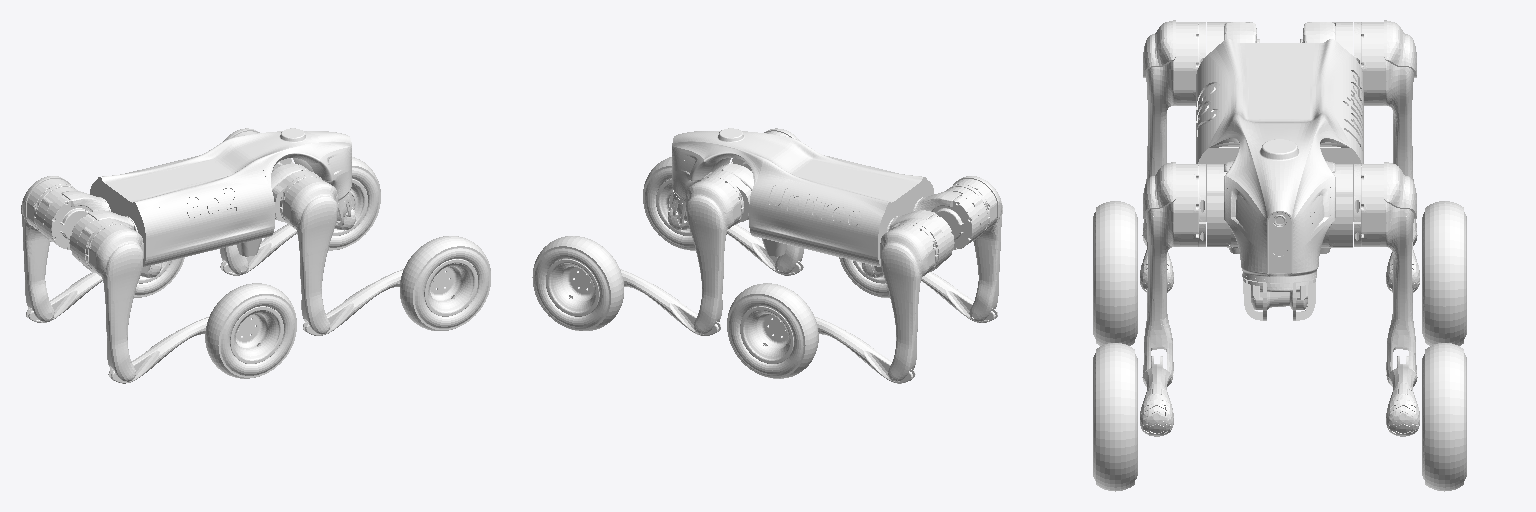
--- What the picture shows (computed from the rendered views, not written in the file) ---
Views: 3 orthographic renders of the robot side by side, from view 1: azimuth 30°, elevation 25°; view 2: azimuth 150°, elevation 25°; view 3: azimuth 270°, elevation 25°.
Robot: go2w_description — 33 links, 32 joints (12 revolute, 4 continuous, 16 fixed); root link base; default pose: all joints at 0 but 4 set to mid-range because 0 is outside their limits (FL_calf_joint = -1.78, FR_calf_joint = -1.78, RL_calf_joint = -1.78, RR_calf_joint = -1.78).
Links seen in each view (by area): view 1: base, RR_foot, FR_foot, FR_thigh, RR_thigh, RL_thigh, RL_hip, FL_foot, RR_calf, FR_calf, RR_hip, RL_calf (+4 smaller); view 2: base, RL_foot, FL_foot, RL_thigh, FL_thigh, RR_thigh, RR_hip, FR_foot, FL_calf, RL_calf, RL_hip, RR_calf (+4 smaller); view 3: base, FL_thigh, FR_thigh, FL_foot, FR_foot, RR_foot, RL_foot, RL_thigh, RR_thigh, FL_calf, FR_calf, FL_hip (+3 smaller).
Boxes of the visible links, x1,y1,x2,y2 form: base: (90,128,352,272); RR_foot: (205,283,296,378); FR_foot: (400,236,490,330); FR_thigh: (280,175,337,334); RR_thigh: (85,222,143,381); RL_thigh: (21,176,76,322); RL_hip: (36,187,110,249); FL_foot: (297,157,380,250); RR_calf: (108,316,238,383); FR_calf: (303,269,432,335); RR_hip: (69,210,137,271); RL_calf: (26,263,161,322); base: (671,128,933,271); RL_foot: (727,283,818,378); FL_foot: (532,236,623,330); RL_thigh: (880,222,938,381); FL_thigh: (686,175,743,334); RR_thigh: (947,176,1002,322); RR_hip: (913,187,987,249); FR_foot: (643,157,726,250); FL_calf: (591,269,720,335); RL_calf: (785,316,915,383); RL_hip: (886,210,954,271); RR_calf: (862,263,997,322); base: (1196,39,1363,320); FL_thigh: (1354,162,1416,384); FR_thigh: (1143,162,1205,384); FL_foot: (1422,343,1466,491); FR_foot: (1093,343,1137,491); RR_foot: (1093,201,1137,345); RL_foot: (1422,201,1466,345); RL_thigh: (1354,20,1416,231); RR_thigh: (1143,20,1205,231); FL_calf: (1386,356,1419,436); FR_calf: (1140,356,1173,436); FL_hip: (1321,161,1352,247).
Bounding box of the posed robot: 0.7427 × 0.432 × 0.3406 m (x, y, z).
Meshes: 8 distinct files referenced, 17 mesh visuals loaded (8 binary STL).

The robot description file, URDF, robot "go2w_description":
<?xml version="1.0" encoding="utf-8"?>
<!-- This URDF was automatically created by SolidWorks to URDF Exporter! Originally created by
Stephen Brawner ([email redacted]) 
     Commit Version: 1.6.0-4-g7f85cfe  Build Version: 1.6.7995.38578
     For more information, please see http://wiki.ros.org/sw_urdf_exporter -->
<robot
  name="go2w_description">
  <link
    name="base">
    <inertial>
      <origin
        xyz="0.021112 0 -0.005366"
        rpy="0 0 0" />
      <mass
        value="6.921" />
      <inertia
        ixx="0.02448"
        ixy="0.00012166"
        ixz="0.0014849"
        iyy="0.098077"
        iyz="-3.12E-05"
        izz="0.107" />
    </inertial>
    <visual>
      <origin
        xyz="0 0 0"
        rpy="0 0 0" />
      <geometry>
        <mesh
          filename="package://go2/meshes/visual/base.STL" />
      </geometry>
      <material
        name="">
        <color
          rgba="1 1 1 1" />
      </material>
    </visual>
    <collision>
      <origin rpy="0 0 0" xyz="0 0 0" />
      <geometry>
        <box size="0.3762 0.0935 0.114" />
      </geometry>
    </collision>
  </link>
  <link
    name="Head_upper">
    <inertial>
      <origin
        xyz="0 0 0"
        rpy="0 0 0" />
      <mass
        value="0.001" />
      <inertia
        ixx="9.6e-06"
        ixy="0"
        ixz="0"
        iyy="9.6e-06"
        iyz="0"
        izz="9.6e-06" />
    </inertial>
    <collision>
      <origin
        xyz="0 0 0"
        rpy="0 0 0" />
      <geometry>
        <cylinder radius="0.06" length="0.09" />
      </geometry>
    </collision>
  </link>
  <joint
    name="Head_upper_joint"
    type="fixed" dont_collapse="true">
    <origin
      xyz="0.285 0 0.01"
      rpy="0 0 0" />
    <parent
      link="base" />
    <child
      link="Head_upper" />
    <axis
      xyz="0 0 0" />
  </joint>
  <link
    name="Head_lower">
    <inertial>
      <origin
        xyz="0 0 0"
        rpy="0 0 0" />
      <mass
        value="0.001" />
      <inertia
        ixx="9.6e-06"
        ixy="0"
        ixz="0"
        iyy="9.6e-06"
        iyz="0"
        izz="9.6e-06" />
    </inertial>
    <collision>
      <origin
        xyz="0 0 0"
        rpy="0 0 0" />
      <geometry>
        <sphere radius="0.06" />
      </geometry>
    </collision>
  </link>
  <joint
    name="Head_lower_joint"
    type="fixed" dont_collapse="true">
    <origin
      xyz="0.008 0 -0.07"
      rpy="0 0 0" />
    <parent
      link="Head_upper" />
    <child
      link="Head_lower" />
    <axis
      xyz="0 0 0" />
  </joint>
  <link
    name="FL_hip">
    <inertial>
      <origin
        xyz="-0.0054 0.00194 -0.000105"
        rpy="0 0 0" />
      <mass
        value="0.678" />
      <inertia
        ixx="0.00048"
        ixy="-3.01E-06"
        ixz="1.11E-06"
        iyy="0.000884"
        iyz="-1.42E-06"
        izz="0.000596" />
    </inertial>
    <visual>
      <origin
        xyz="0 0 0"
        rpy="0 0 0" />
      <geometry>
        <mesh
          filename="package://go2/meshes/visual/hip.STL" />
      </geometry>
      <material
        name="">
        <color
          rgba="1 1 1 1" />
      </material>
    </visual>
    <collision>
      <origin rpy="1.5707963267948966 0 0" xyz="0 0.08 0" />
      <geometry>
        <cylinder length="0.04" radius="0.046" />
      </geometry>
    </collision>
  </link>
  <joint
    name="FL_hip_joint"
    type="revolute">
    <origin
      xyz="0.1934 0.0465 0"
      rpy="0 0 0" />
    <parent
      link="base" />
    <child
      link="FL_hip" />
    <axis
      xyz="1 0 0" />
    <limit
      lower="-1.0472"
      upper="1.0472"
      effort="23.7"
      velocity="30.1" />
  </joint>
  <link
    name="FL_thigh">
    <inertial>
      <origin
        xyz="-0.00374 -0.0223 -0.0327"
        rpy="0 0 0" />
      <mass
        value="1.152" />
      <inertia
        ixx="0.00584"
        ixy="8.72E-05"
        ixz="-0.000289"
        iyy="0.0058"
        iyz="0.000808"
        izz="0.00103" />
    </inertial>
    <visual>
      <origin
        xyz="0 0 0"
        rpy="0 0 0" />
      <geometry>
        <mesh
          filename="package://go2/meshes/visual/thigh.STL" />
      </geometry>
      <material
        name="">
        <color
          rgba="1 1 1 1" />
      </material>
    </visual>
    <collision>
      <origin rpy="0 1.5707963267948966 0" xyz="0 0 -0.1065" />
      <geometry>
        <box size="0.11 0.0245 0.034" />
      </geometry>
    </collision>
  </link>
  <joint
    name="FL_thigh_joint"
    type="revolute">
    <origin
      xyz="0 0.0955 0"
      rpy="0 0 0" />
    <parent
      link="FL_hip" />
    <child
      link="FL_thigh" />
    <axis
      xyz="0 1 0" />
    <limit
      lower="-1.5707963267948966"
      upper="3.4907"
      effort="23.7"
      velocity="30.1" />
  </joint>
  <link
    name="FL_calf">
    <inertial>
      <origin
        xyz="0.00548 -0.000975 -0.115"
        rpy="0 0 0" />
      <mass
        value="0.154" />
      <inertia
        ixx="0.00108"
        ixy="3.4E-07"
        ixz="1.72E-05"
        iyy="0.0011"
        iyz="8.28E-06"
        izz="3.29E-05" />
    </inertial>
    <visual>
      <origin
        xyz="0 0 0"
        rpy="0 0 0" />
      <geometry>
        <mesh
          filename="package://go2/meshes/visual/calf.STL" />
      </geometry>
      <material
        name="">
        <color
          rgba="1 1 1 1" />
      </material>
    </visual>
    <collision>
      <origin rpy="0 -0.21 0" xyz="0.008 0 -0.06" />
      <geometry>
        <cylinder length="0.12" radius="0.012" />
      </geometry>
    </collision>
  </link>
  <joint
    name="FL_calf_joint"
    type="revolute">
    <origin
      xyz="0 0 -0.213"
      rpy="0 0 0" />
    <parent
      link="FL_thigh" />
    <child
      link="FL_calf" />
    <axis
      xyz="0 1 0" />
    <limit
      lower="-2.7227"
      upper="-0.83776"
      effort="35.55"
      velocity="20.07" />
  </joint>
  <link
    name="FL_calflower">
    <collision>
      <origin rpy="0 0 0" xyz="0 0 0" />
      <geometry>
        <cylinder length="0.065" radius="0.011" />
      </geometry>
    </collision>
  </link>
  <joint
    name="FL_calflower_joint"
    type="fixed">
    <origin
      xyz="0.020 0 -0.148"
      rpy="0 0.05 0" />
    <parent
      link="FL_calf" />
    <child
      link="FL_calflower" />
    <axis
      xyz="0 0 0" />
  </joint>
  <link
    name="FL_calflower1">
    <collision>
      <origin rpy="0 0 0" xyz="0 0 0" />
      <geometry>
        <cylinder length="0.03" radius="0.0155" />
      </geometry>
    </collision>
  </link>
  <joint
    name="FL_calflower1_joint"
    type="fixed">
    <origin
      xyz="-0.01 0 -0.04"
      rpy="0 0.48 0" />
    <parent
      link="FL_calflower" />
    <child
      link="FL_calflower1" />
    <axis
      xyz="0 0 0" />
  </joint>

  <link
    name="FL_foot_motor">
    <inertial>
      <origin
        xyz="0 0.0 0"
        rpy="0 0 0" />
      <mass
        value="0.646" />
      <inertia
        ixx="0.001"
        ixy="0"
        ixz="0"
        iyy="0.0016"
        iyz="0"
        izz="0.001" />
    </inertial>
    <collision>
      <origin rpy="1.5707963267948966 0 0" xyz="0 0 0" />
      <geometry>
        <cylinder length="0.05" radius="0.05" />
      </geometry>
    </collision>
  </link>

  <joint
    name="FL_foot_motor_joint"
    type="fixed">
    <origin
      xyz="-0.00 0.01 -0.2264"
      rpy="0 0.0 0" />
    <parent
      link="FL_calf" />
    <child
      link="FL_foot_motor" />
    <axis
      xyz="0 0 0" />
  </joint>

  <link
    name="FL_foot">
    <inertial>
      <origin
        xyz="0 0.06 0"
        rpy="0 0 0" />
      <mass
        value="0.520" />
      <inertia
        ixx="0.0007"
        ixy="0"
        ixz="0"
        iyy="0.0012"
        iyz="0"
        izz="0.0007" />
    </inertial>
    <visual>
      <origin
        xyz="0 0 0"
        rpy="0 0 0" />
      <geometry>
        <mesh filename="package://go2/meshes/visual/left_wheel.STL" />
      </geometry>
      <material
        name="">
        <color
          rgba="1 1 1 1" />
      </material>
    </visual>
    <collision>
      <origin rpy="1.5707963267948966 0 0" xyz="0 0.0 0" />
      <geometry>
        <mesh filename="package://go2/meshes/visual/left_wheel.STL" />
        <!-- <cylinder length="0.045" radius="0.086" /> -->
      </geometry>
    </collision>
  </link>
  <joint
    name="FL_foot_joint"
    type="continuous">
    <origin
      xyz="0 0 -0.2264"
      rpy="0 0 0" />
    <parent
      link="FL_calf" />
    <child
      link="FL_foot" />
    <axis
      xyz="0 1 0" />
      <!-- <dynamics damping="0.01" friction="0.01"/> -->
      <limit
      effort="23.7"
      velocity="30.1" />
  </joint>
  
  <link
    name="FR_hip">
    <inertial>
      <origin
        xyz="-0.0054 -0.00194 -0.000105"
        rpy="0 0 0" />
      <mass
        value="0.678" />
      <inertia
        ixx="0.00048"
        ixy="3.01E-06"
        ixz="1.11E-06"
        iyy="0.000884"
        iyz="1.42E-06"
        izz="0.000596" />
    </inertial>
    <visual>
      <origin
        xyz="0 0 0"
        rpy="3.1415 0 0" />
      <geometry>
        <mesh
          filename="package://go2/meshes/visual/hip.STL" />
      </geometry>
      <material
        name="">
        <color
          rgba="1 1 1 1" />
      </material>
    </visual>
    <collision>
      <origin rpy="1.5707963267948966 0 0" xyz="0 -0.08 0" />
      <geometry>
        <cylinder length="0.04" radius="0.046" />
      </geometry>
    </collision>
  </link>
  <joint
    name="FR_hip_joint"
    type="revolute">
    <origin
      xyz="0.1934 -0.0465 0"
      rpy="0 0 0" />
    <parent
      link="base" />
    <child
      link="FR_hip" />
    <axis
      xyz="1 0 0" />
    <limit
      lower="-1.0472"
      upper="1.0472"
      effort="23.7"
      velocity="30.1" />
  </joint>
  <link
    name="FR_thigh">
    <inertial>
      <origin
        xyz="-0.00374 0.0223 -0.0327"
        rpy="0 0 0" />
      <mass
        value="1.152" />
      <inertia
        ixx="0.00584"
        ixy="-8.72E-05"
        ixz="-0.000289"
        iyy="0.0058"
        iyz="-0.000808"
        izz="0.00103" />
    </inertial>
    <visual>
      <origin
        xyz="0 0 0"
        rpy="0 0 0" />
      <geometry>
        <mesh
          filename="package://go2/meshes/visual/thigh_mirror.STL" />
      </geometry>
      <material
        name="">
        <color
          rgba="1 1 1 1" />
      </material>
    </visual>
    <collision>
      <origin rpy="0 1.5707963267948966 0" xyz="0 0 -0.1065" />
      <geometry>
        <box size="0.11 0.0245 0.034" />
      </geometry>
    </collision>
  </link>
  <joint
    name="FR_thigh_joint"
    type="revolute">
    <origin
      xyz="0 -0.0955 0"
      rpy="0 0 0" />
    <parent
      link="FR_hip" />
    <child
      link="FR_thigh" />
    <axis
      xyz="0 1 0" />
    <limit
      lower="-1.5707963267948966"
      upper="3.4907"
      effort="23.7"
      velocity="30.1" />
  </joint>
  <link
    name="FR_calf">
    <inertial>
      <origin
        xyz="0.00548 0.000975 -0.115"
        rpy="0 0 0" />
      <mass
        value="0.154" />
      <inertia
        ixx="0.00108"
        ixy="-3.4E-07"
        ixz="1.72E-05"
        iyy="0.0011"
        iyz="-8.28E-06"
        izz="3.29E-05" />
    </inertial>
    <visual>
      <origin
        xyz="0 0 0"
        rpy="0 0 0" />
      <geometry>
        <mesh
          filename="package://go2/meshes/visual/calf_mirror.STL" />
      </geometry>
      <material
        name="">
        <color
          rgba="1 1 1 1" />
      </material>
    </visual>
    <collision>
      <origin rpy="0 -0.2 0" xyz="0.01 0 -0.06" />
      <geometry>
        <cylinder length="0.12" radius="0.013" />
      </geometry>
    </collision>
  </link>
  <joint
    name="FR_calf_joint"
    type="revolute">
    <origin
      xyz="0 0 -0.213"
      rpy="0 0 0" />
    <parent
      link="FR_thigh" />
    <child
      link="FR_calf" />
    <axis
      xyz="0 1 0" />
    <limit
      lower="-2.7227"
      upper="-0.83776"
      effort="35.55"
      velocity="20.07" />
  </joint>
  <link
    name="FR_calflower">
    <collision>
      <origin rpy="0 0 0" xyz="0 0 0" />
      <geometry>
        <cylinder length="0.065" radius="0.011" />
      </geometry>
    </collision>
  </link>
  <joint
    name="FR_calflower_joint"
    type="fixed">
    <origin
      xyz="0.020 0 -0.148"
      rpy="0 0.05 0" />
    <parent
      link="FR_calf" />
    <child
      link="FR_calflower" />
    <axis
      xyz="0 0 0" />
  </joint>
  <link
    name="FR_calflower1">
    <collision>
      <origin rpy="0 0 0" xyz="0 0 0" />
      <geometry>
        <cylinder length="0.03" radius="0.0155" />
      </geometry>
    </collision>
  </link>
  <joint
    name="FR_calflower1_joint"
    type="fixed">
    <origin
      xyz="-0.01 0 -0.04"
      rpy="0 0.48 0" />
    <parent
      link="FR_calflower" />
    <child
      link="FR_calflower1" />
    <axis
      xyz="0 0 0" />
  </joint>

  <link
    name="FR_foot_motor">
    <inertial>
      <origin
        xyz="0 0.0 0"
        rpy="0 0 0" />
      <mass
        value="0.646" />
      <inertia
        ixx="0.001"
        ixy="0"
        ixz="0"
        iyy="0.0016"
        iyz="0"
        izz="0.001" />
    </inertial>
    <collision>
      <origin rpy="1.5707963267948966 0 0" xyz="0 0 0" />
      <geometry>
        <cylinder length="0.05" radius="0.05" />
      </geometry>
    </collision>
  </link>

  <joint
    name="FR_foot_motor_joint"
    type="fixed">
    <origin
      xyz="0.0 -0.01 -0.2264"
      rpy="0 0.0 0" />
    <parent
      link="FR_calf" />
    <child
      link="FR_foot_motor" />
    <axis
      xyz="0 0 0" />
  </joint>

  <link
    name="FR_foot">
    <inertial>
      <origin
        xyz="0 -0.06 0"
        rpy="0 0 0" />
      <mass
        value="0.520" />
      <inertia
        ixx="0.0007"
        ixy="0"
        ixz="0"
        iyy="0.0012"
        iyz="0"
        izz="0.0007" />
    </inertial>
    <visual>
      <origin
        xyz="0 0 0"
        rpy="0 0 0" />
      <geometry>
        <mesh
          filename="package://go2/meshes/visual/right_wheel.STL" />
      </geometry>
      <material
        name="">
        <color
          rgba="1 1 1 1" />
      </material>
    </visual>
    <collision>
      <origin rpy="1.5707963267948966 0 0" xyz="0 -0.0 0" />
      <geometry>
        <mesh filename="package://go2/meshes/visual/right_wheel.STL" />
        <!-- <cylinder length="0.045" radius="0.086" /> -->
      </geometry>
    </collision>
  </link>
  <joint
    name="FR_foot_joint"
    type="continuous">
    <origin
      xyz="0 0 -0.2264"
      rpy="0 0 0" />
    <parent
      link="FR_calf" />
    <child
      link="FR_foot" />
    <axis
      xyz="0 1 0" />
      <limit
      effort="23.7"
      velocity="30.1" />
  </joint>

  <link
    name="RL_hip">
    <inertial>
      <origin
        xyz="0.0054 0.00194 -0.000105"
        rpy="0 0 0" />
      <mass
        value="0.678" />
      <inertia
        ixx="0.00048"
        ixy="3.01E-06"
        ixz="-1.11E-06"
        iyy="0.000884"
        iyz="-1.42E-06"
        izz="0.000596" />
    </inertial>
    <visual>
      <origin
        xyz="0 0 0"
        rpy="0 3.1415 0" />
      <geometry>
        <mesh
          filename="package://go2/meshes/visual/hip.STL" />
      </geometry>
      <material
        name="">
        <color
          rgba="1 1 1 1" />
      </material>
    </visual>
    <collision>
      <origin rpy="1.5707963267948966 0 0" xyz="0 0.08 0" />
      <geometry>
        <cylinder length="0.04" radius="0.046" />
      </geometry>
    </collision>
  </link>
  <joint
    name="RL_hip_joint"
    type="revolute">
    <origin
      xyz="-0.1934 0.0465 0"
      rpy="0 0 0" />
    <parent
      link="base" />
    <child
      link="RL_hip" />
    <axis
      xyz="1 0 0" />
    <limit
      lower="-1.0472"
      upper="1.0472"
      effort="23.7"
      velocity="30.1" />
  </joint>
  <link
    name="RL_thigh">
    <inertial>
      <origin
        xyz="-0.00374 -0.0223 -0.0327"
        rpy="0 0 0" />
      <mass
        value="1.152" />
      <inertia
        ixx="0.00584"
        ixy="8.72E-05"
        ixz="-0.000289"
        iyy="0.0058"
        iyz="0.000808"
        izz="0.00103" />
    </inertial>
    <visual>
      <origin
        xyz="0 0 0"
        rpy="0 0 0" />
      <geometry>
        <mesh
          filename="package://go2/meshes/visual/thigh.STL" />
      </geometry>
      <material
        name="">
        <color
          rgba="1 1 1 1" />
      </material>
    </visual>
    <collision>
      <origin rpy="0 1.5707963267948966 0" xyz="0 0 -0.1065" />
      <geometry>
        <box size="0.11 0.0245 0.034" />
      </geometry>
    </collision>
  </link>
  <joint
    name="RL_thigh_joint"
    type="revolute">
    <origin
      xyz="0 0.0955 0"
      rpy="0 0 0" />
    <parent
      link="RL_hip" />
    <child
      link="RL_thigh" />
    <axis
      xyz="0 1 0" />
    <limit
      lower="-0.5236"
      upper="4.5379"
      effort="23.7"
      velocity="30.1" />
  </joint>
  <link
    name="RL_calf">
    <inertial>
      <origin
        xyz="0.00548 -0.000975 -0.115"
        rpy="0 0 0" />
      <mass
        value="0.154" />
      <inertia
        ixx="0.00108"
        ixy="3.4E-07"
        ixz="1.72E-05"
        iyy="0.0011"
        iyz="8.28E-06"
        izz="3.29E-05" />
    </inertial>
    <visual>
      <origin
        xyz="0 0 0"
        rpy="0 0 0" />
      <geometry>
        <mesh
          filename="package://go2/meshes/visual/calf.STL" />
      </geometry>
      <material
        name="">
        <color
          rgba="1 1 1 1" />
      </material>
    </visual>
    <collision>
      <origin rpy="0 -0.2 0" xyz="0.01 0 -0.06" />
      <geometry>
        <cylinder length="0.12" radius="0.013" />
      </geometry>
    </collision>
  </link>
  <joint
    name="RL_calf_joint"
    type="revolute">
    <origin
      xyz="0 0 -0.213"
      rpy="0 0 0" />
    <parent
      link="RL_thigh" />
    <child
      link="RL_calf" />
    <axis
      xyz="0 1 0" />
    <limit
      lower="-2.7227"
      upper="-0.83776"
      effort="35.55"
      velocity="20.07" />
  </joint>
  <link
    name="RL_calflower">
    <collision>
      <origin rpy="0 0 0" xyz="0 0 0" />
      <geometry>
        <cylinder length="0.065" radius="0.011" />
      </geometry>
    </collision>
  </link>
  <joint
    name="RL_calflower_joint"
    type="fixed">
    <origin
      xyz="0.020 0 -0.148"
      rpy="0 0.05 0" />
    <parent
      link="RL_calf" />
    <child
      link="RL_calflower" />
    <axis
      xyz="0 0 0" />
  </joint>
  <link
    name="RL_calflower1">
    <collision>
      <origin rpy="0 0 0" xyz="0 0 0" />
      <geometry>
        <cylinder length="0.03" radius="0.0155" />
      </geometry>
    </collision>
  </link>
  <joint
    name="RL_calflower1_joint"
    type="fixed">
    <origin
      xyz="-0.01 0 -0.04"
      rpy="0 0.48 0" />
    <parent
      link="RL_calflower" />
    <child
      link="RL_calflower1" />
    <axis
      xyz="0 0 0" />
  </joint>

  <link
  name="RL_foot_motor">
  <inertial>
    <origin
      xyz="0 0.0 0"
      rpy="0 0 0" />
    <mass
      value="0.646" />
    <inertia
      ixx="0.001"
      ixy="0"
      ixz="0"
      iyy="0.0016"
      iyz="0"
      izz="0.001" />
  </inertial>
  <collision>
    <origin rpy="1.5707963267948966 0 0" xyz="0 0 0" />
    <geometry>
      <cylinder length="0.05" radius="0.05" />
    </geometry>
  </collision>
</link>

<joint
  name="RL_foot_motor_joint"
  type="fixed">
  <origin
    xyz="0.00 0.01 -0.2264"
    rpy="0 0.0 0" />
  <parent
    link="RL_calf" />
  <child
    link="RL_foot_motor" />
  <axis
    xyz="0 0 0" />
</joint>


  <link
    name="RL_foot">
    <inertial>
      <origin
        xyz="0 0.06 0"
        rpy="0 0 0" />
      <mass
        value="0.520" />
      <inertia
        ixx="0.0007"
        ixy="0"
        ixz="0"
        iyy="0.0012"
        iyz="0"
        izz="0.0007" />
    </inertial>
    <visual>
      <origin
        xyz="0 0 0"
        rpy="0 0 0" />
      <geometry>
        <mesh
          filename="package://go2/meshes/visual/left_wheel.STL" />
      </geometry>
      <material
        name="">
        <color
          rgba="1 1 1 1" />
      </material>
    </visual>
    <collision>
      <origin rpy="1.5707963267948966 0 0" xyz="0 0.0 0" />
      <geometry>
        <mesh filename="package://go2/meshes/visual/left_wheel.STL" />
        <!-- <cylinder length="0.045" radius="0.086" /> -->
      </geometry>
    </collision>
  </link>
  <joint
    name="RL_foot_joint"
    type="continuous">
    <origin
      xyz="0.0 0 -0.2264"
      rpy="0 0 0" />
    <parent
      link="RL_calf" />
    <child
      link="RL_foot" />
    <axis
      xyz="0 1 0" />
      <limit
      effort="23.7"
      velocity="30.1" />
  </joint>

  <link
    name="RR_hip">
    <inertial>
      <origin
        xyz="0.0054 -0.00194 -0.000105"
        rpy="0 0 0" />
      <mass
        value="0.678" />
      <inertia
        ixx="0.00048"
        ixy="-3.01E-06"
        ixz="-1.11E-06"
        iyy="0.000884"
        iyz="1.42E-06"
        izz="0.000596" />
    </inertial>
    <visual>
      <origin
        xyz="0 0 0"
        rpy="3.1415 3.1415 0" />
      <geometry>
        <mesh
          filename="package://go2/meshes/visual/hip.STL" />
      </geometry>
      <material
        name="">
        <color
          rgba="1 1 1 1" />
      </material>
    </visual>
    <collision>
      <origin rpy="1.5707963267948966 0 0" xyz="0 -0.08 0" />
      <geometry>
        <cylinder length="0.04" radius="0.046" />
      </geometry>
    </collision>
  </link>
  <joint
    name="RR_hip_joint"
    type="revolute">
    <origin
      xyz="-0.1934 -0.0465 0"
      rpy="0 0 0" />
    <parent
      link="base" />
    <child
      link="RR_hip" />
    <axis
      xyz="1 0 0" />
    <limit
      lower="-1.0472"
      upper="1.0472"
      effort="23.7"
      velocity="30.1" />
  </joint>
  <link
    name="RR_thigh">
    <inertial>
      <origin
        xyz="-0.00374 0.0223 -0.0327"
        rpy="0 0 0" />
      <mass
        value="1.152" />
      <inertia
        ixx="0.00584"
        ixy="-8.72E-05"
        ixz="-0.000289"
        iyy="0.0058"
        iyz="-0.000808"
        izz="0.00103" />
    </inertial>
    <visual>
      <origin
        xyz="0 0 0"
        rpy="0 0 0" />
      <geometry>
        <mesh
          filename="package://go2/meshes/visual/thigh_mirror.STL" />
      </geometry>
      <material
        name="">
        <color
          rgba="1 1 1 1" />
      </material>
    </visual>
    <collision>
      <origin rpy="0 1.5707963267948966 0" xyz="0 0 -0.1065" />
      <geometry>
        <box size="0.11 0.0245 0.034" />
      </geometry>
    </collision>
  </link>
  <joint
    name="RR_thigh_joint"
    type="revolute">
    <origin
      xyz="0 -0.0955 0"
      rpy="0 0 0" />
    <parent
      link="RR_hip" />
    <child
      link="RR_thigh" />
    <axis
      xyz="0 1 0" />
    <limit
      lower="-0.5236"
      upper="4.5379"
      effort="23.7"
      velocity="30.1" />
  </joint>
  <link
    name="RR_calf">
    <inertial>
      <origin
        xyz="0.00548 0.000975 -0.115"
        rpy="0 0 0" />
      <mass
        value="0.154" />
      <inertia
        ixx="0.00108"
        ixy="-3.4E-07"
        ixz="1.72E-05"
        iyy="0.0011"
        iyz="-8.28E-06"
        izz="3.29E-05" />
    </inertial>
    <visual>
      <origin
        xyz="0 0 0"
        rpy="0 0 0" />
      <geometry>
        <mesh
          filename="package://go2/meshes/visual/calf_mirror.STL" />
      </geometry>
      <material
        name="">
        <color
          rgba="1 1 1 1" />
      </material>
    </visual>
    <collision>
      <origin rpy="0 -0.2 0" xyz="0.01 0 -0.06" />
      <geometry>
        <cylinder length="0.12" radius="0.013" />
      </geometry>
    </collision>
  </link>
  <joint
    name="RR_calf_joint"
    type="revolute">
    <origin
      xyz="0 0 -0.213"
      rpy="0 0 0" />
    <parent
      link="RR_thigh" />
    <child
      link="RR_calf" />
    <axis
      xyz="0 1 0" />
    <limit
      lower="-2.7227"
      upper="-0.83776"
      effort="35.55"
      velocity="20.07" />
  </joint>
  <link
    name="RR_calflower">
    <collision>
      <origin rpy="0 0 0" xyz="0 0 0" />
      <geometry>
        <cylinder length="0.065" radius="0.011" />
      </geometry>
    </collision>
  </link>
  <joint
    name="RR_calflower_joint"
    type="fixed">
    <origin
      xyz="0.020 0 -0.148"
      rpy="0 0.05 0" />
    <parent
      link="RR_calf" />
    <child
      link="RR_calflower" />
    <axis
      xyz="0 0 0" />
  </joint>
  <link
    name="RR_calflower1">
    <collision>
      <origin rpy="0 0 0" xyz="0 0 0" />
      <geometry>
        <cylinder length="0.03" radius="0.0155" />
      </geometry>
    </collision>
  </link>
  <joint
    name="RR_calflower1_joint"
    type="fixed">
    <origin
      xyz="-0.01 0 -0.04"
      rpy="0 0.48 0" />
    <parent
      link="RR_calflower" />
    <child
      link="RR_calflower1" />
    <axis
      xyz="0 0 0" />
  </joint>

  <link
  name="RR_foot_motor">
  <inertial>
    <origin
      xyz="0 0.0 0"
      rpy="0 0 0" />
    <mass
      value="0.646" />
    <inertia
      ixx="0.001"
      ixy="0"
      ixz="0"
      iyy="0.0016"
      iyz="0"
      izz="0.001" />
  </inertial>
  <collision>
    <origin rpy="1.5707963267948966 0 0" xyz="0 0 0" />
    <geometry>
      <cylinder length="0.05" radius="0.05" />
    </geometry>
  </collision>
</link>

<joint
  name="RR_foot_motor_joint"
  type="fixed">
  <origin
    xyz="0.00 -0.01 -0.2264"
    rpy="0 0.0 0" />
  <parent
    link="RR_calf" />
  <child
    link="RR_foot_motor" />
  <axis
    xyz="0 0 0" />
</joint>

  <link
    name="RR_foot">
    <inertial>
      <origin
        xyz="0 -0.06 0"
        rpy="0 0 0" />
      <mass
        value="0.520" />
      <inertia
        ixx="0.0007"
        ixy="0"
        ixz="0"
        iyy="0.0012"
        iyz="0"
        izz="0.0007" />
    </inertial>
    <visual>
      <origin
        xyz="0 0 0"
        rpy="0 0 0" />
      <geometry>
        <mesh
          filename="package://go2/meshes/visual/right_wheel.STL" />
      </geometry>
      <material
        name="">
        <color
          rgba="1 1 1 1" />
      </material>
    </visual>
    <collision>
      <origin rpy="1.5707963267948966 0 0" xyz="0 -0.0 0" />
      <geometry>
        <mesh filename="package://go2/meshes/visual/right_wheel.STL" />
        <!-- <cylinder length="0.045" radius="0.086" /> -->
      </geometry>
    </collision>
  </link>
  <joint
    name="RR_foot_joint"
    type="continuous">
    <origin
      xyz="-0.0 0 -0.2264"
      rpy="0 0 0" />
    <parent
      link="RR_calf" />
    <child
      link="RR_foot" />
    <axis
      xyz="0 1 0" />
      <limit
      effort="23.7"
      velocity="30.1" />
  </joint>
  <link
    name="imu">
    <inertial>
      <origin
        xyz="0 0 0"
        rpy="0 0 0" />
      <mass
        value="0" />
      <inertia
        ixx="0"
        ixy="0"
        ixz="0"
        iyy="0"
        iyz="0"
        izz="0" />
    </inertial>
  </link>
  <joint
    name="imu_joint"
    type="fixed">
    <origin
      xyz="-0.02557 0 0.04232"
      rpy="0 0 0" />
    <parent
      link="base" />
    <child
      link="imu" />
    <axis
      xyz="0 0 0" />
  </joint>
  <link
    name="radar">
    <inertial>
      <origin
        xyz="0 0 0"
        rpy="0 0 0" />
      <mass
        value="0" />
      <inertia
        ixx="0"
        ixy="0"
        ixz="0"
        iyy="0"
        iyz="0"
        izz="0" />
    </inertial>
  </link>
  <joint
    name="radar_joint"
    type="fixed">
    <origin
      xyz="0.28945 0 -0.046825"
      rpy="0 2.8782 0" />
    <parent
      link="base" />
    <child
      link="radar" />
    <axis
      xyz="0 0 0" />
  </joint>
</robot>
